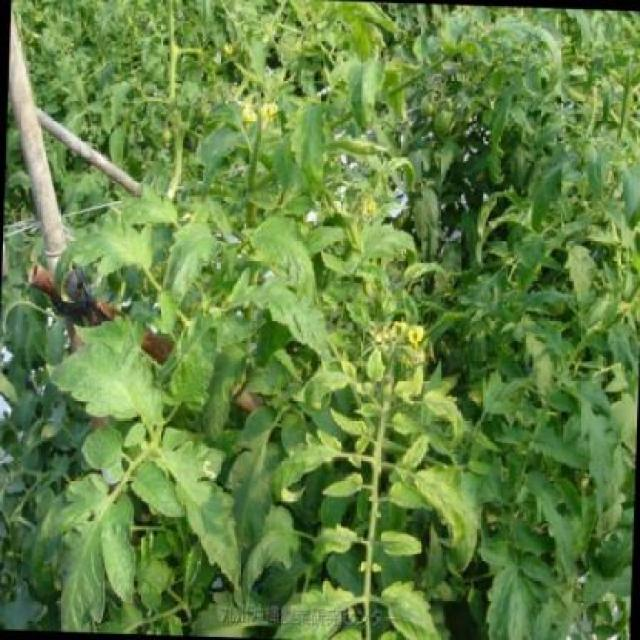Healthy Leaf: (27, 456, 136, 633), (61, 329, 173, 433), (238, 279, 348, 370), (41, 209, 161, 276), (244, 214, 331, 298), (408, 468, 482, 560), (273, 332, 329, 446), (269, 447, 336, 528), (380, 568, 454, 640), (276, 579, 355, 639), (95, 182, 192, 228), (423, 379, 471, 452), (354, 216, 420, 264), (379, 472, 436, 522), (309, 517, 363, 566), (320, 464, 368, 508), (375, 528, 427, 560), (362, 342, 393, 387)
